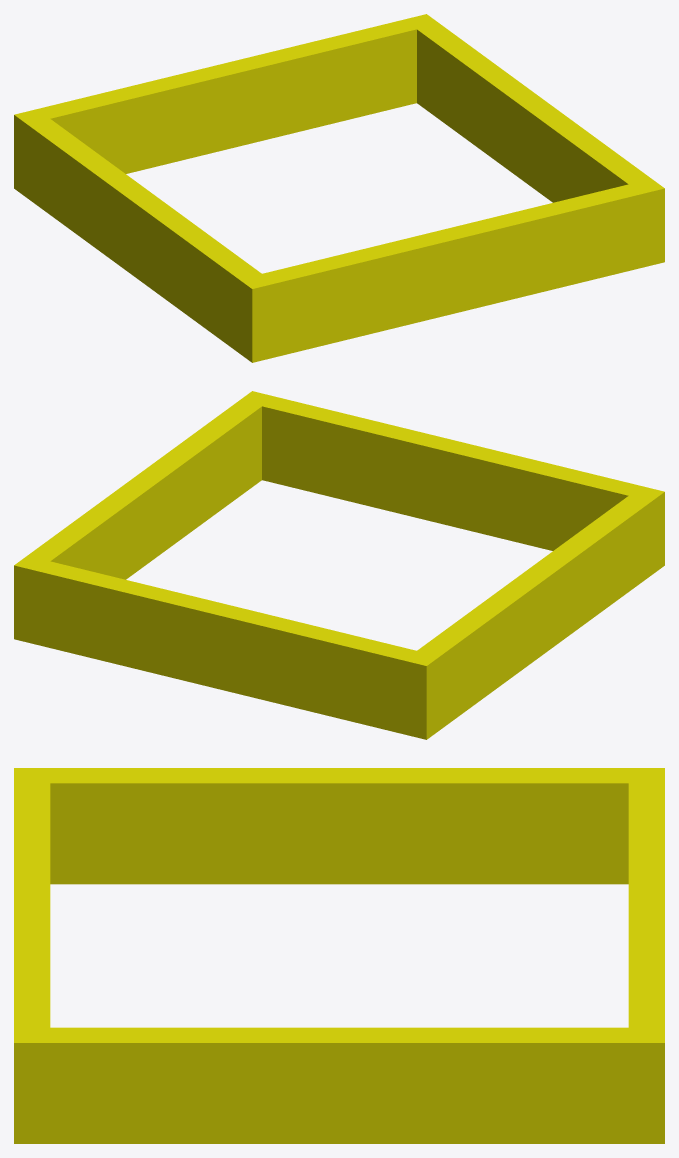
The model's file is Component_Highlight.fbx.
3 renders of one model, top to bottom at view 1: azimuth 30°, elevation 25°; view 2: azimuth 150°, elevation 25°; view 3: azimuth 270°, elevation 25°, orthographic. The views are drawn at different scales.
Parts seen in each view (by area): view 1: Component_Highlight; view 2: Component_Highlight; view 3: Component_Highlight.
Part boxes in pixels (box(x1,y1,x2,y2)): Component_Highlight: box(14, 14, 664, 362); Component_Highlight: box(14, 391, 664, 739); Component_Highlight: box(14, 768, 664, 1143).
Bounding box in the file's own units: 224 × 38.26 × 224.
